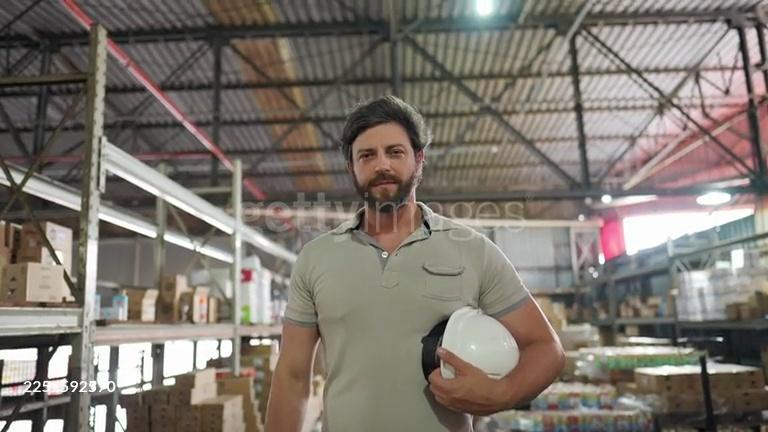helmet: (438, 308, 520, 381)
person: (262, 89, 567, 432)
